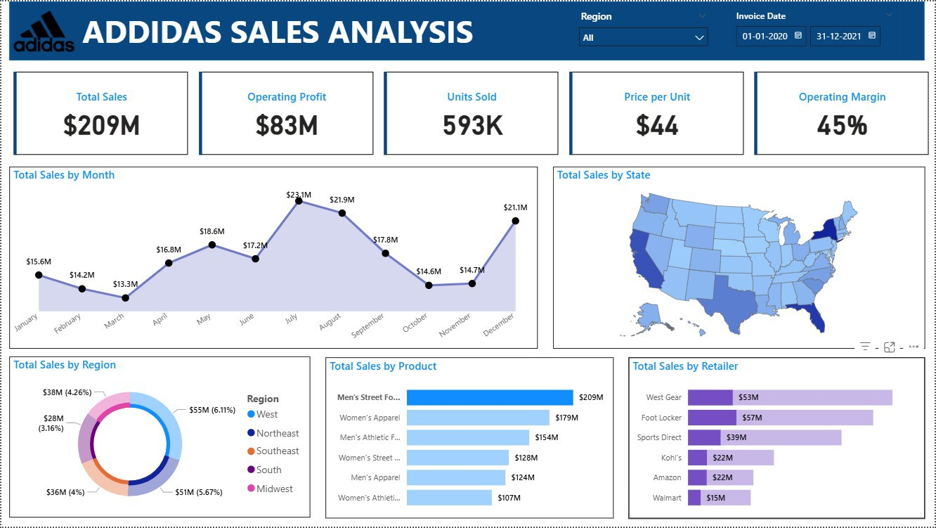

The dashboard page shown, as its layout file describes it:
{"tool":"powerbi","page":{"name":"Page 1","canvas":[1280,720],"ordinal":0},"visuals":[{"type":"cardVisual","title":"Sum of total sa","fields":{"Data":["Sum(Table 1 (Data Sales Adidas).Total Sales)","Sum(Table 1 (Data Sales Adidas).Operating Profit)","Sum(Table 1 (Data Sales Adidas).Units Sold)","Avg(Table 1 (Data Sales Adidas).Price per Unit)","Avg(Table 1 (Data Sales Adidas).Operating Margin)"]},"box":[19.8,77.9,1255.8,125.6],"z":0},{"type":"areaChart","fields":{"Category":["Table 1 (Data Sales Adidas).Invoice Date.Variation.Date Hierarchy.Month"],"Y":["Sum(Table 1 (Data Sales Adidas).Total Sales)"]},"box":[19.8,203.5,724.4,260.5],"z":1000},{"type":"shapeMap","title":"Total Sales by State","fields":{"Category":["Table 1 (Data Sales Adidas).State"],"Value":["Sum(Table 1 (Data Sales Adidas).Total Sales)"]},"box":[760.5,203.5,507,260.5],"z":2000},{"type":"donutChart","fields":{"Category":["Table 1 (Data Sales Adidas).Region"],"Y":["Sum(Table 1 (Data Sales Adidas).Total Sales)"]},"box":[10.5,475.6,400,224.4],"z":3000},{"type":"barChart","fields":{"Category":["Table 1 (Data Sales Adidas).Product"],"Y":["Sum(Table 1 (Data Sales Adidas).Total Sales)"]},"box":[425.6,475.6,426.7,224.4],"z":4000},{"type":"barChart","title":"   Total Sales by Retailer","fields":{"Y":["Sum(Table 1 (Data Sales Adidas).Total Sales)"],"Category":["Table 1 (Data Sales Adidas).Retailer"]},"box":[864,476.7,403.5,224.4],"z":5000},{"type":"slicer","fields":{"Values":["Table 1 (Data Sales Adidas).Region"]},"box":[519.7,204.2,299.6,64.8],"z":6000},{"type":"image","box":[33,12.2,106.4,45.2],"z":7000},{"type":"slicer","fields":{"Values":["Table 1 (Data Sales Adidas).Region"]},"box":[796.1,4.9,193.2,59.9],"z":8000},{"type":"slicer","fields":{"Values":["Table 1 (Data Sales Adidas).Invoice Date"]},"box":[1000.3,4.9,256.8,59.9],"z":9000},{"type":"textbox","box":[9.8,0,1260.7,69.7],"z":10000},{"type":"image","box":[33,4.9,106.4,52.6],"z":10001},{"type":"slicer","fields":{"Values":["Table 1 (Data Sales Adidas).Region"]},"box":[716.6,0,205.4,69.7],"z":10002},{"type":"slicer","fields":{"Values":["Table 1 (Data Sales Adidas).Invoice Date"]},"box":[933,0,223.8,64.8],"z":10003}]}

Visuals, with their boxes in screenshot pixels (x1, y1, x2, y2), scaled from the page's 1280x720 canvas onto the 936x528 screenshot:
"Sum of total sa" cardVisual: l=14, t=57, r=933, b=149
areaChart - Table 1 (Data Sales Adidas).Invoice Date.Variation.Date Hierarchy.Month x Sum(Table 1 (Data Sales Adidas).Total Sales): l=14, t=149, r=544, b=340
"Total Sales by State" shapeMap: l=556, t=149, r=927, b=340
donutChart - Table 1 (Data Sales Adidas).Region x Sum(Table 1 (Data Sales Adidas).Total Sales): l=8, t=349, r=300, b=513
barChart - Table 1 (Data Sales Adidas).Product x Sum(Table 1 (Data Sales Adidas).Total Sales): l=311, t=349, r=623, b=513
"   Total Sales by Retailer" barChart: l=632, t=350, r=927, b=514
slicer - Table 1 (Data Sales Adidas).Region: l=380, t=150, r=599, b=197
image: l=24, t=9, r=102, b=42
slicer - Table 1 (Data Sales Adidas).Region: l=582, t=4, r=723, b=48
slicer - Table 1 (Data Sales Adidas).Invoice Date: l=731, t=4, r=919, b=48
textbox: l=7, t=0, r=929, b=51
image: l=24, t=4, r=102, b=42
slicer - Table 1 (Data Sales Adidas).Region: l=524, t=0, r=674, b=51
slicer - Table 1 (Data Sales Adidas).Invoice Date: l=682, t=0, r=846, b=48
